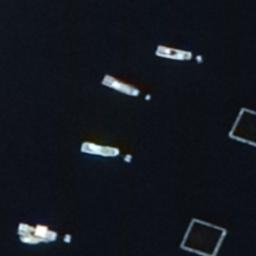square_solid: (176, 211, 231, 256), (223, 103, 256, 154)
